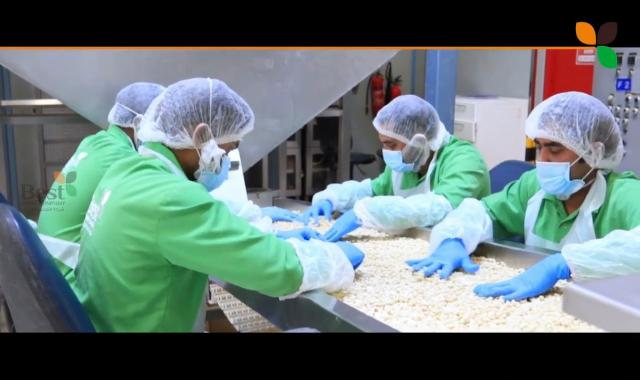hairnet: (528, 91, 626, 172), (138, 78, 252, 147), (373, 93, 446, 153), (109, 80, 164, 123)
